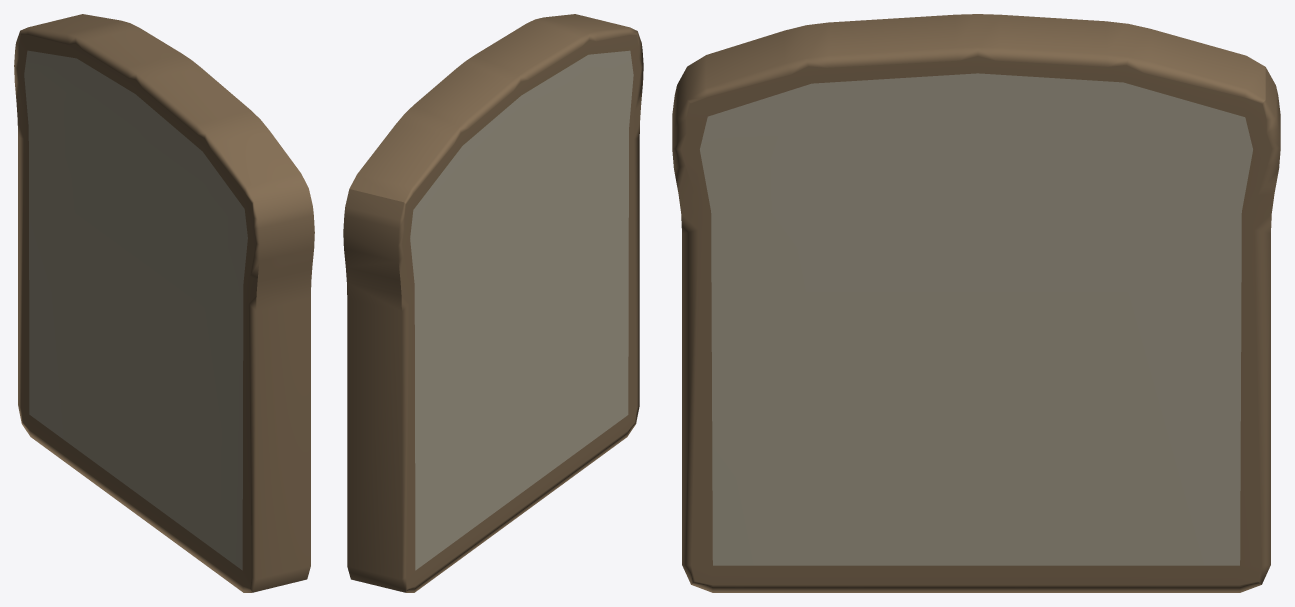
Rendered from Bread_Slice.fbx.
3 views of the same model, side by side, from view 1: azimuth 30°, elevation 25°; view 2: azimuth 150°, elevation 25°; view 3: azimuth 270°, elevation 25° (orthographic). The views are drawn at different scales.
Visible parts, largest first — view 1: Bread_Slice; view 2: Bread_Slice; view 3: Bread_Slice.
Boxes of the visible parts, bbox=[...] form: Bread_Slice: bbox=[14, 14, 314, 592]; Bread_Slice: bbox=[343, 14, 643, 592]; Bread_Slice: bbox=[672, 14, 1280, 592].
Bounding box in the file's own units: 0.7611 × 5.65 × 5.7.
